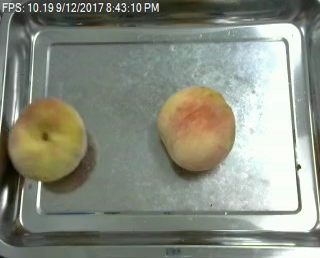Peach: (6, 97, 88, 182), (157, 86, 235, 170)
